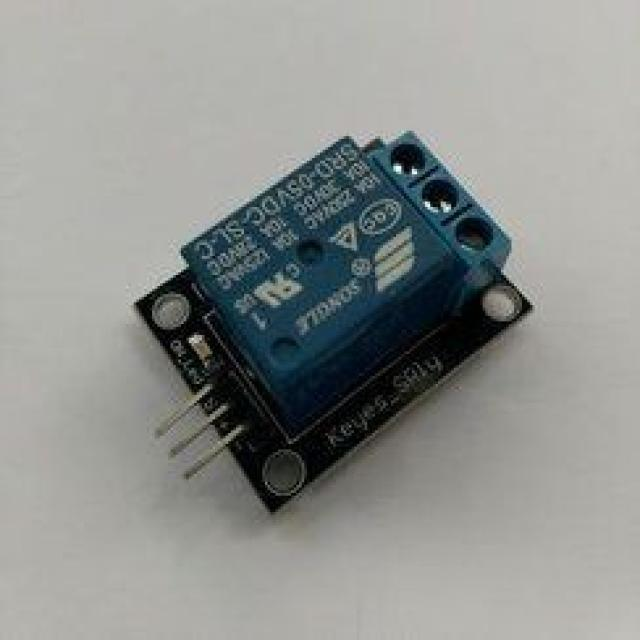Relay: (142, 133, 527, 512)
